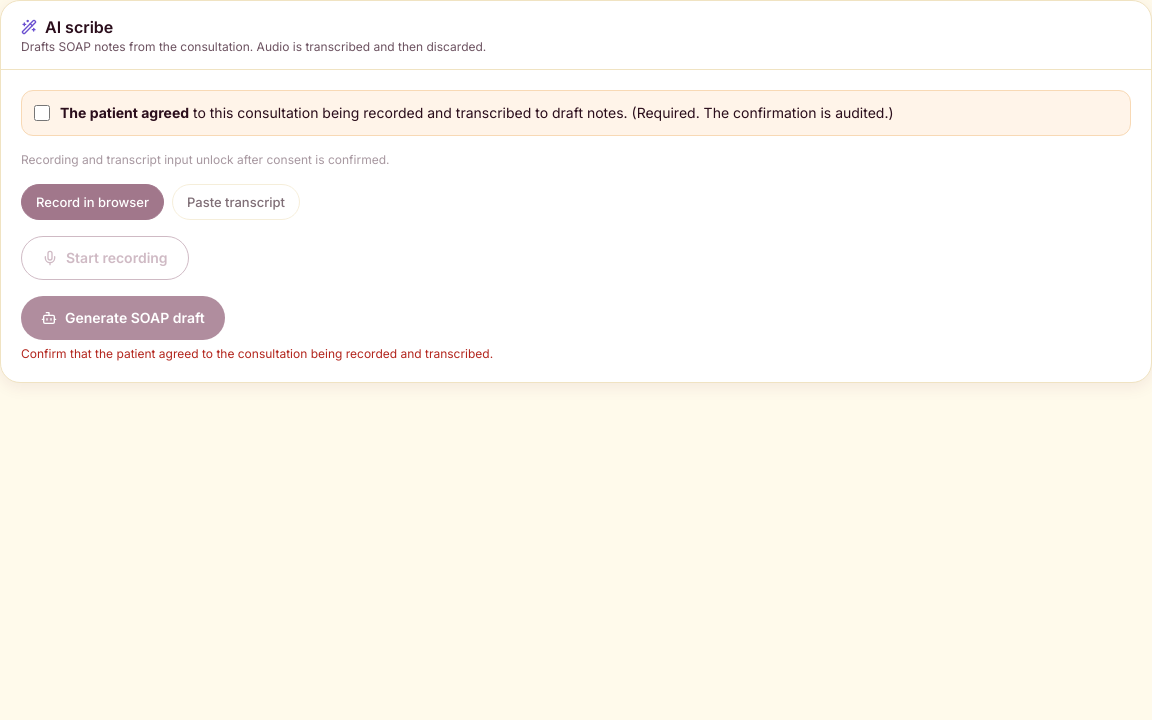
Test: scribe consent gating › keeps recording, transcript and generate disabled until consent is ticked
This screenshot has width=1152, height=720.
Check: the button "Generate SOAP draft" is disabled, box x1=21 y1=296 x2=225 y2=340
Click the radio button labelled "Paste transcript" at (236, 202), box x1=172 y1=184 x2=300 y2=220
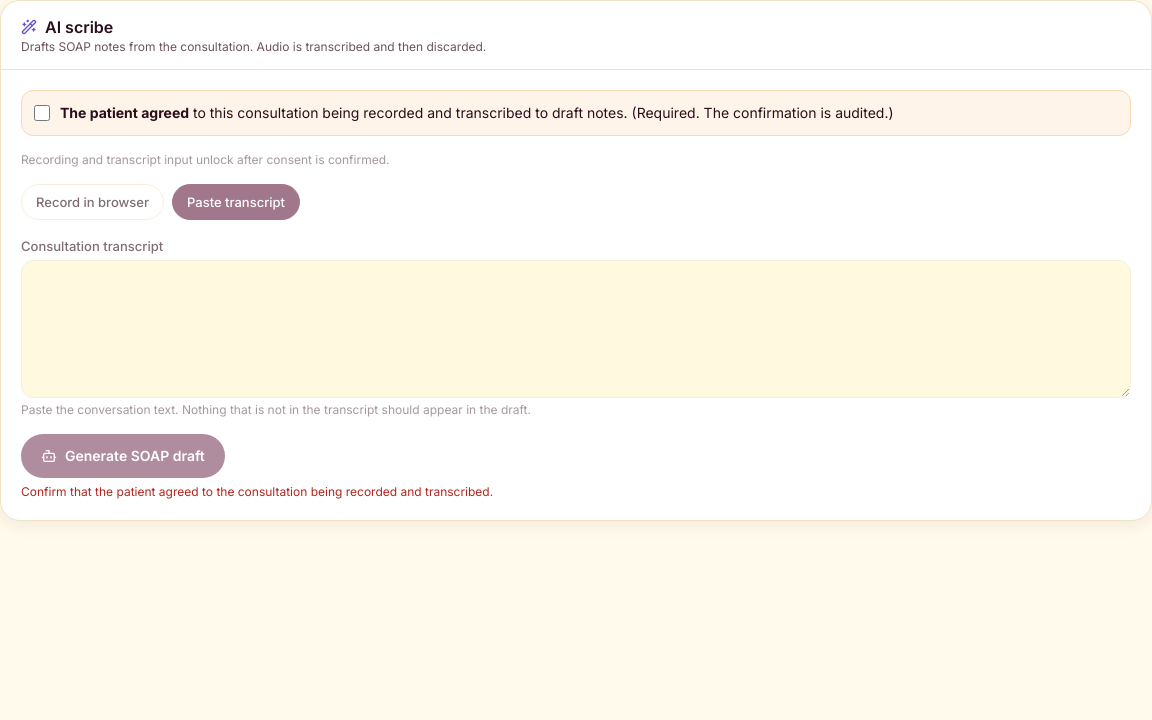
Check: the text box labelled "Consultation transcript" is disabled, box x1=21 y1=260 x2=1131 y2=398
Click the checkbox labelled "patient agreed" at (42, 113), box x1=34 y1=105 x2=50 y2=121
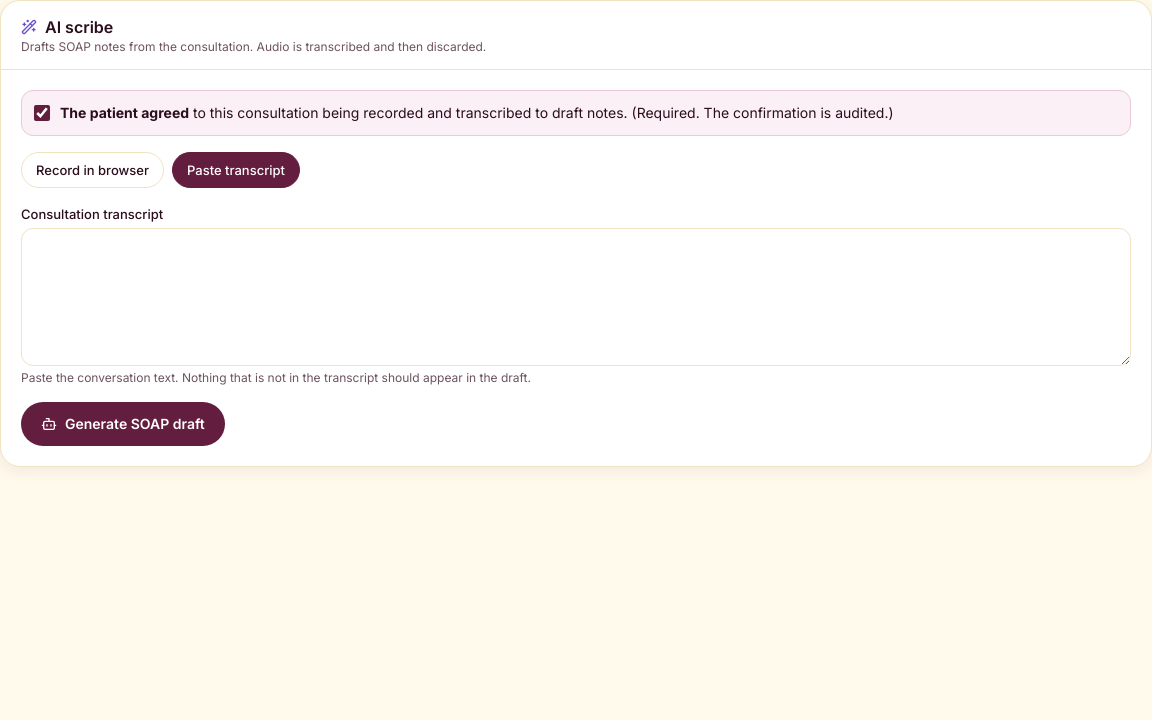
Check: the button "Generate SOAP draft" is enabled, box x1=21 y1=402 x2=225 y2=446
Check: the text box labelled "Consultation transcript" is enabled, box x1=21 y1=228 x2=1131 y2=366
